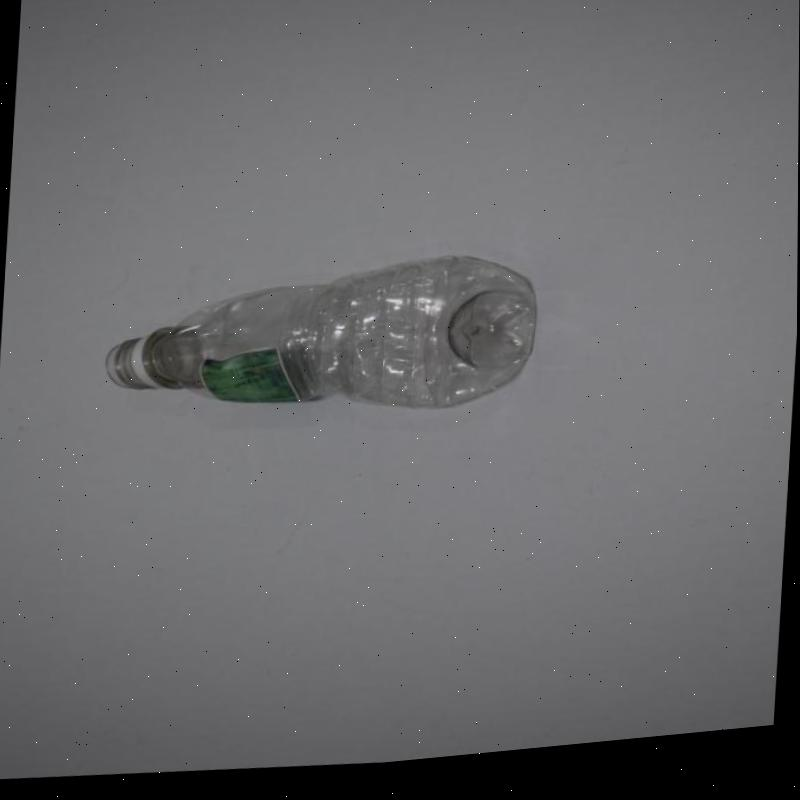botella: (99, 237, 549, 450)
